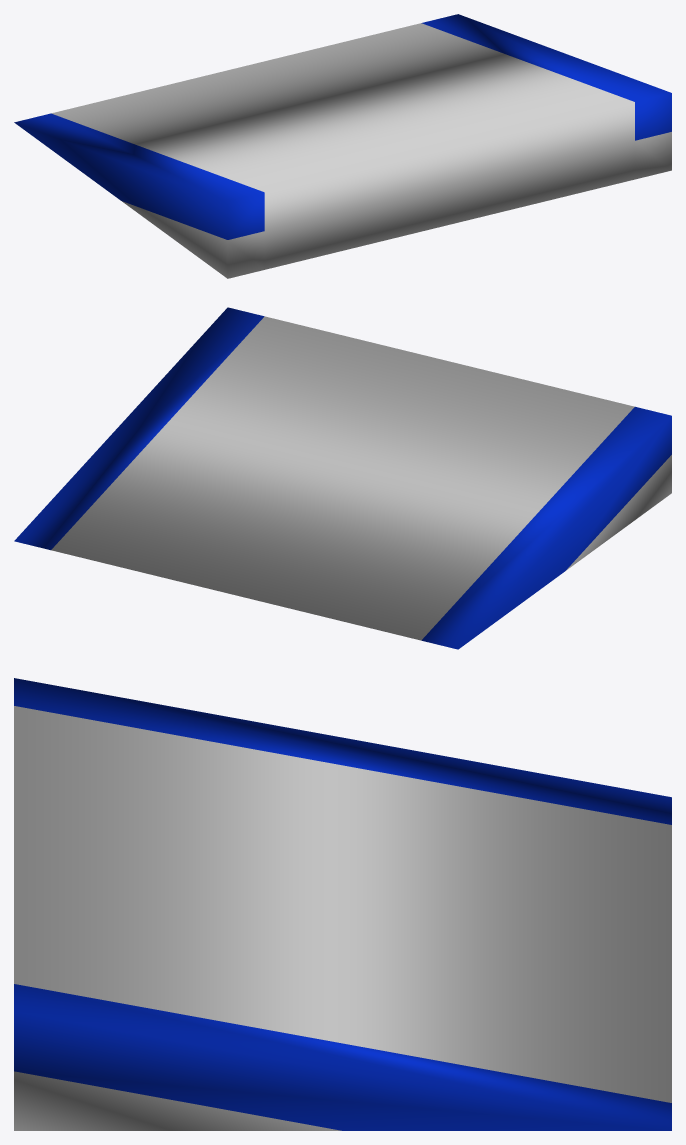
Rendered from Ramp.fbx.
The picture shows the model from 3 angles, top to bottom: view 1: azimuth 30°, elevation 25°; view 2: azimuth 150°, elevation 25°; view 3: azimuth 270°, elevation 25°; orthographic projection. The views are drawn at different scales.
Visible parts, largest first — view 1: Mesh; view 2: Mesh; view 3: Mesh.
Part boxes in pixels (x1,y1,x2,y2): Mesh: [14, 14, 671, 278]; Mesh: [14, 307, 671, 649]; Mesh: [14, 678, 671, 1130].
Bounding box in the file's own units: 12000 × 2000 × 10000.
